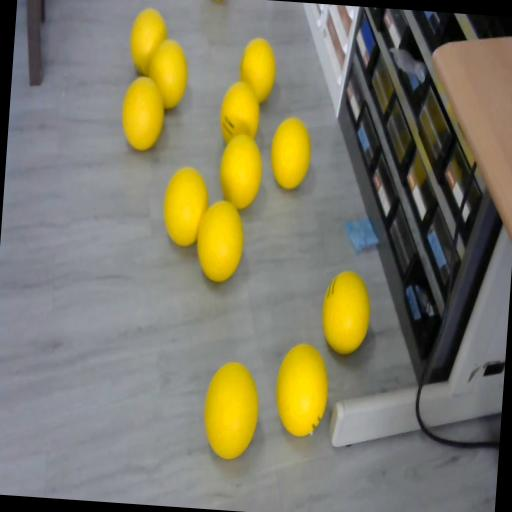FUEL: (200, 358, 262, 460), (272, 342, 330, 438), (192, 196, 248, 282), (320, 269, 373, 355), (160, 163, 212, 249), (218, 133, 266, 210), (120, 75, 166, 152), (268, 116, 314, 190), (127, 8, 169, 76), (238, 36, 279, 104)
